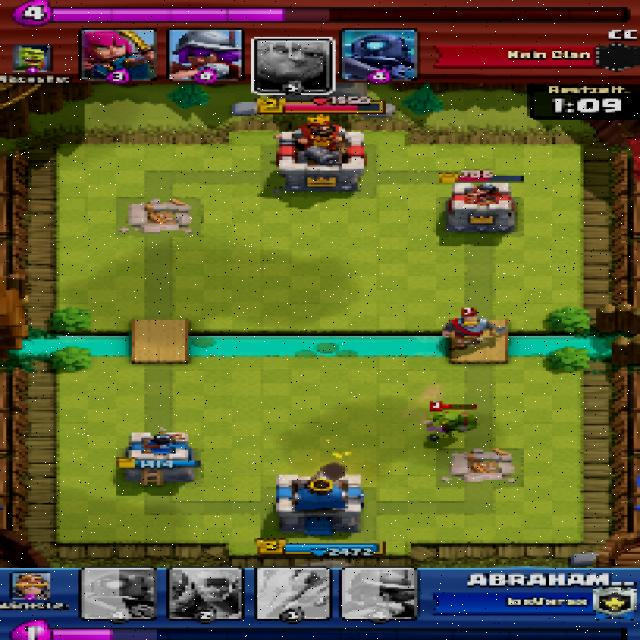Enemy-Knight: (438, 316, 506, 349)
Player-GoblinCage: (424, 408, 479, 433)
